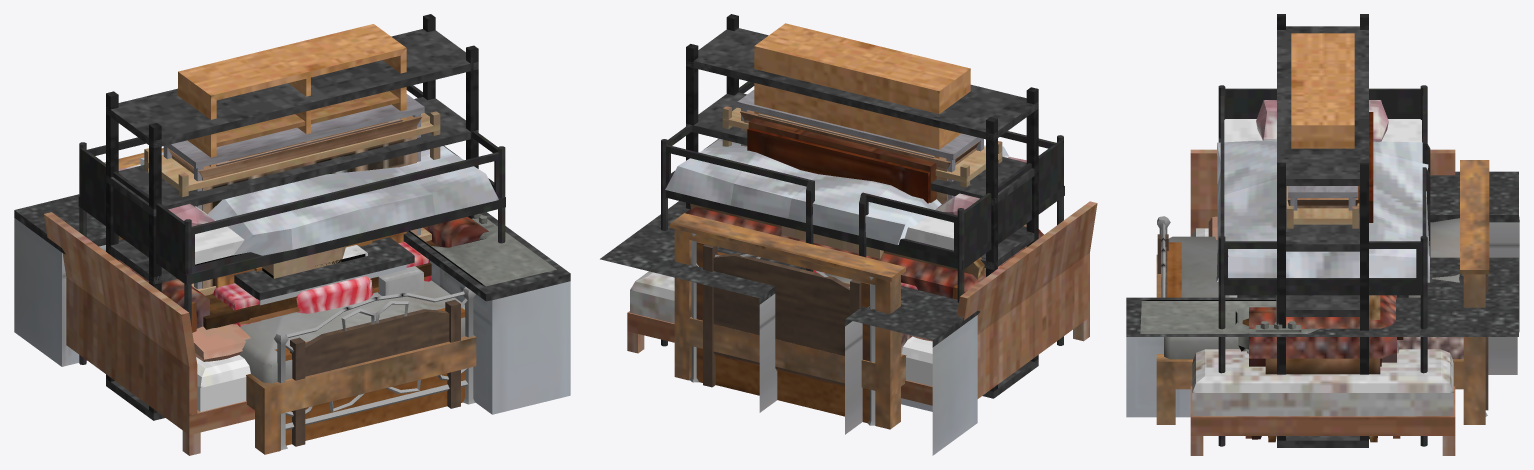
File: Furniture_Models.fbx
3 renders of one model, left to right at view 1: azimuth 30°, elevation 25°; view 2: azimuth 150°, elevation 25°; view 3: azimuth 270°, elevation 25°, orthographic. The views are drawn at different scales.
Parts seen in each view (by area): view 1: HouseProps_bed2, Village_Kitchen, HouseProps_shelves2, HouseProps_bed, Village_bed_01, HouseProps_bookshelf, Village_bed, Village_Fitment, Mine_Shelving, Village_Kitchen_01, Village_bed_02, Village_bed_03 (+8 smaller); view 2: HouseProps_bed2, HouseProps_bed, HouseProps_shelves2, Village_Kitchen, Village_bed_01, HouseProps_bookshelf, Village_bed, Village_Bookcase_01, Village_bed_03, Village_Armchair_04, Mine_Shelving, Village_Bookcase_02 (+7 smaller); view 3: HouseProps_bed2, HouseProps_bed, Village_Kitchen, HouseProps_shelves2, Village_bed_01, HouseProps_bookshelf, Village_Armchair_04, Village_Armchair_08, HouseProps_shelves, Mine_Shelving, Village_bed_03, Village_bed (+3 smaller).
Boxes of the visible parts, <box> form: HouseProps_bed2: <box>78,85,505,364</box>; Village_Kitchen: <box>14,194,570,414</box>; HouseProps_shelves2: <box>106,14,478,420</box>; HouseProps_bed: <box>43,212,254,455</box>; Village_bed_01: <box>104,148,476,454</box>; HouseProps_bookshelf: <box>178,24,406,166</box>; Village_bed: <box>290,300,460,446</box>; Village_Fitment: <box>168,116,421,295</box>; Mine_Shelving: <box>163,94,424,289</box>; Village_Kitchen_01: <box>234,237,414,321</box>; Village_bed_02: <box>274,287,475,450</box>; Village_bed_03: <box>275,308,464,445</box>; HouseProps_bed2: <box>661,81,1064,346</box>; HouseProps_bed: <box>627,201,1097,405</box>; HouseProps_shelves2: <box>686,14,1038,398</box>; Village_Kitchen: <box>600,201,980,455</box>; Village_bed_01: <box>669,213,911,429</box>; HouseProps_bookshelf: <box>754,23,970,158</box>; Village_bed: <box>703,244,861,387</box>; Village_Bookcase_01: <box>747,128,929,203</box>; Village_bed_03: <box>715,224,1025,416</box>; Village_Armchair_04: <box>685,207,1043,298</box>; Mine_Shelving: <box>737,90,983,199</box>; Village_Bookcase_02: <box>748,118,936,202</box>; HouseProps_bed2: <box>1216,85,1430,446</box>; HouseProps_bed: <box>1190,149,1455,455</box>; Village_Kitchen: <box>1126,171,1519,417</box>; HouseProps_shelves2: <box>1277,14,1368,447</box>; Village_bed_01: <box>1156,160,1489,424</box>; HouseProps_bookshelf: <box>1291,33,1354,148</box>; Village_Armchair_04: <box>1249,295,1396,439</box>; Village_Armchair_08: <box>1265,295,1380,442</box>; HouseProps_shelves: <box>1286,186,1359,228</box>; Mine_Shelving: <box>1288,186,1357,210</box>; Village_bed_03: <box>1167,242,1181,297</box>; Village_bed: <box>1157,234,1488,410</box>.
Size of the model in its own units: 3.11 by 2.51 by 3.06.
3 materials, 3 textured.
